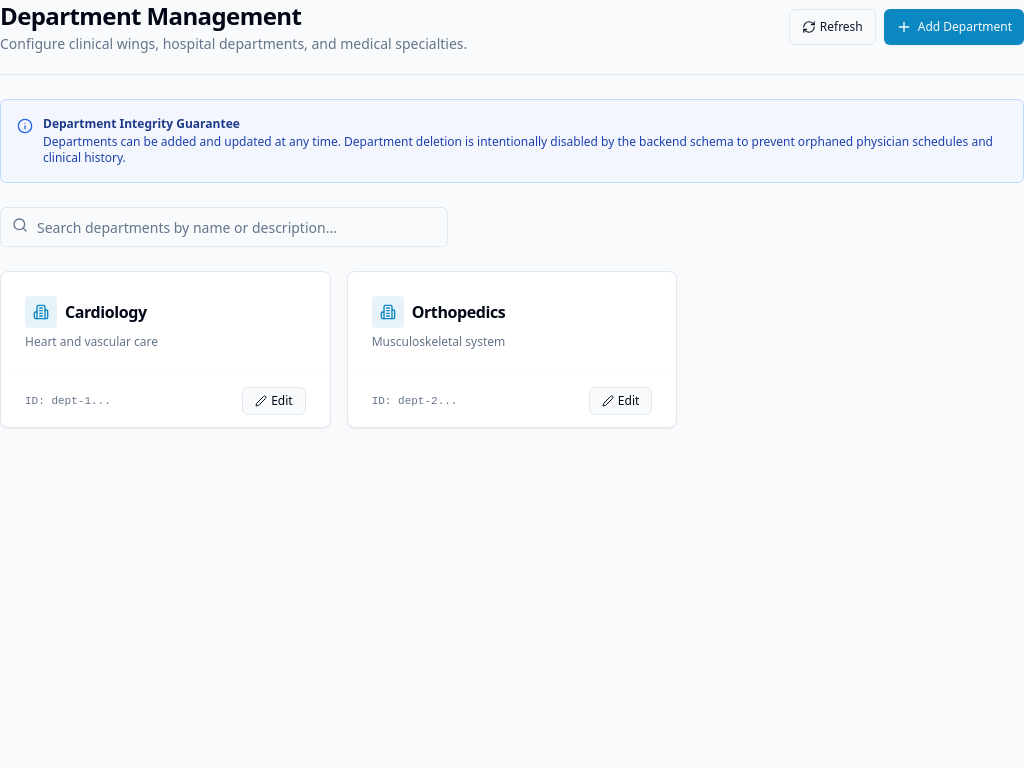
DepartmentsPage Management › displays validation error when backend returns DEPARTMENT_NAME_EXISTS
Click the button with aria-label "add new department".
click(954, 27)  # box [884, 9, 1023, 45]
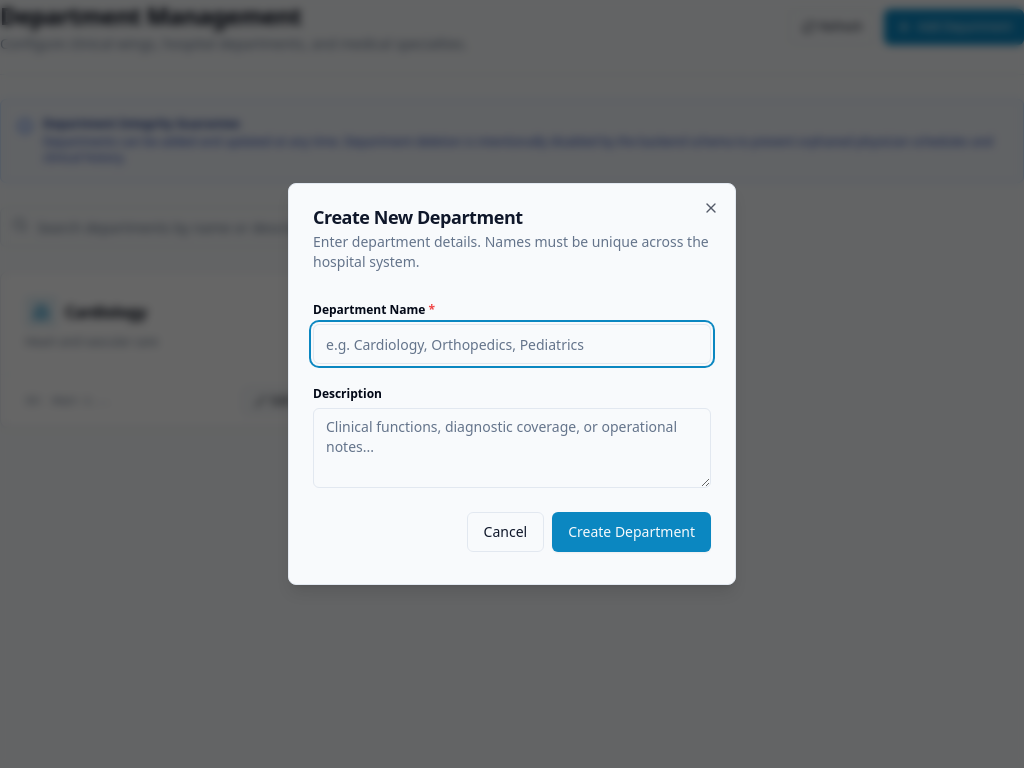
Type "Cardiology" into the field with placeholder "e.g. Cardiology, Orthopedics, Pediatrics".
click(512, 344); type("Cardiology")  # box [313, 324, 711, 364]
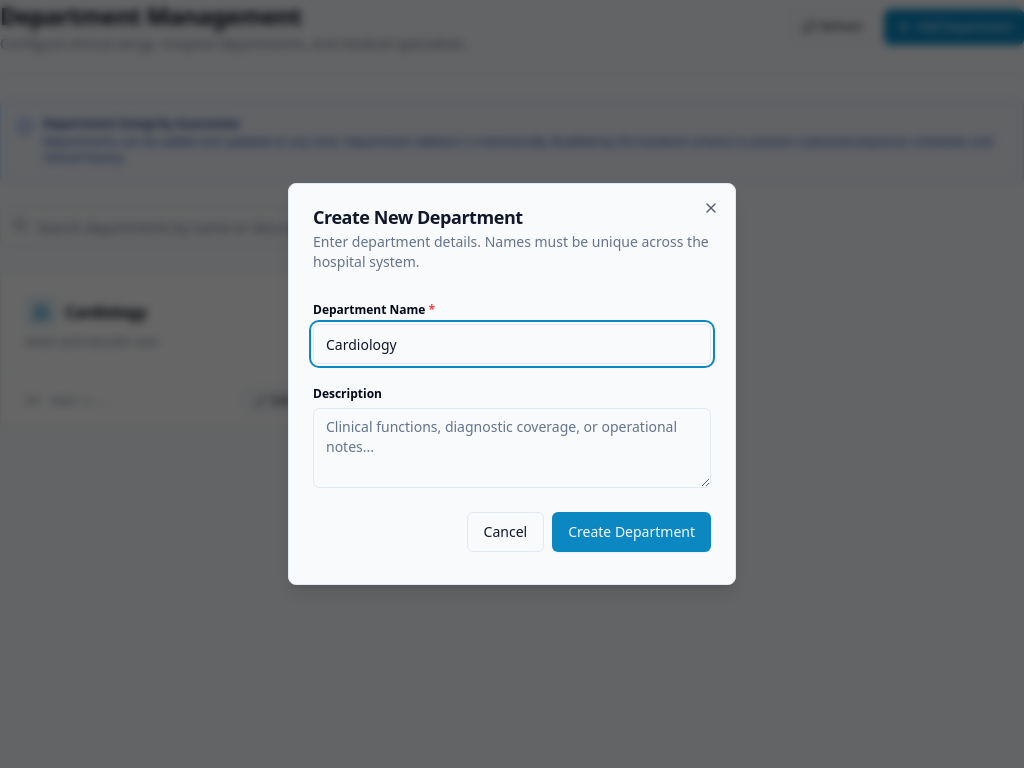
Click the button "Create Department".
click(632, 532)  # box [552, 512, 711, 552]
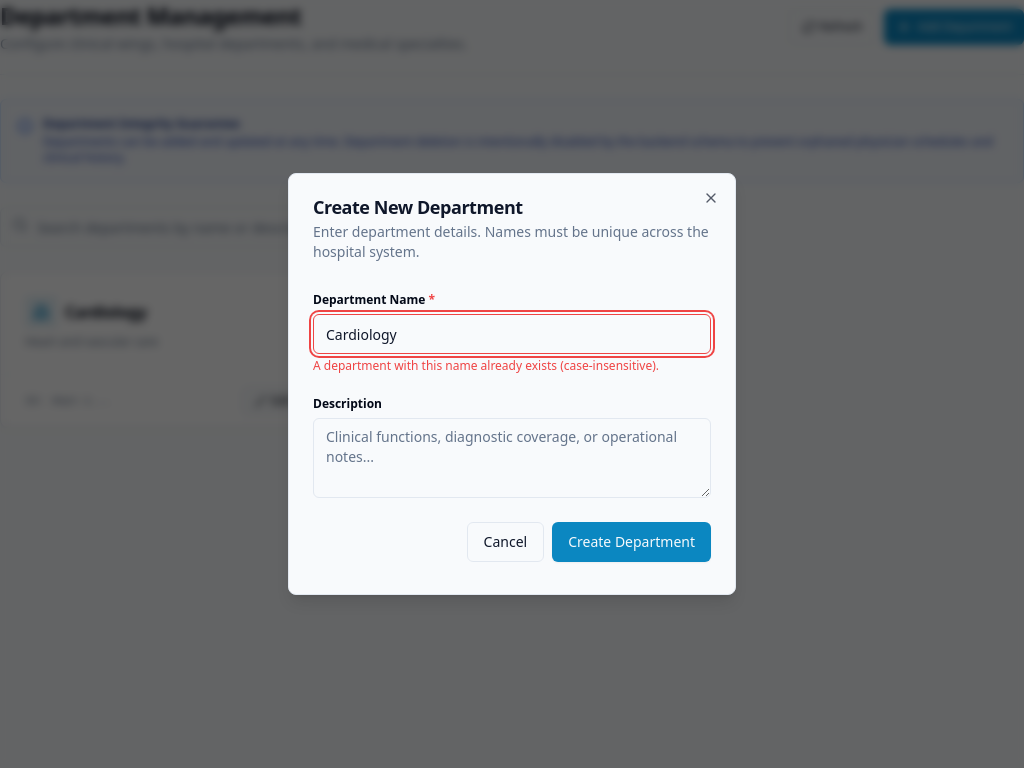
expect the text "A department with this name already exists" is shown: met, box [313, 357, 659, 374]
